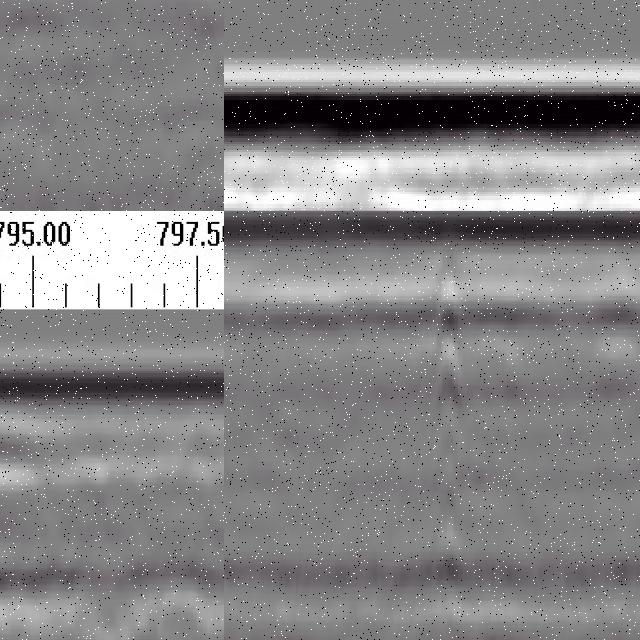crack: (433, 223, 463, 594)
loose: (1, 536, 91, 640)
